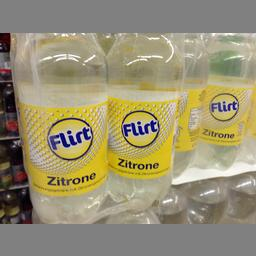soda: (10, 32, 108, 222), (108, 33, 182, 208), (193, 33, 254, 170)
